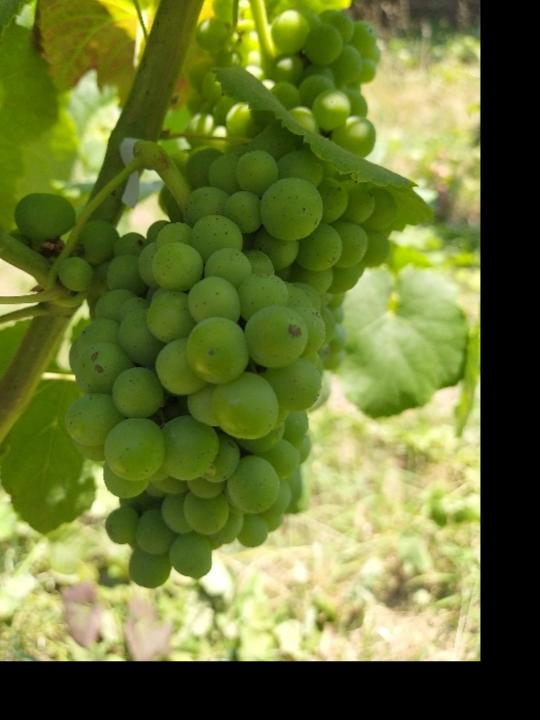grape: (14, 125, 395, 589)
